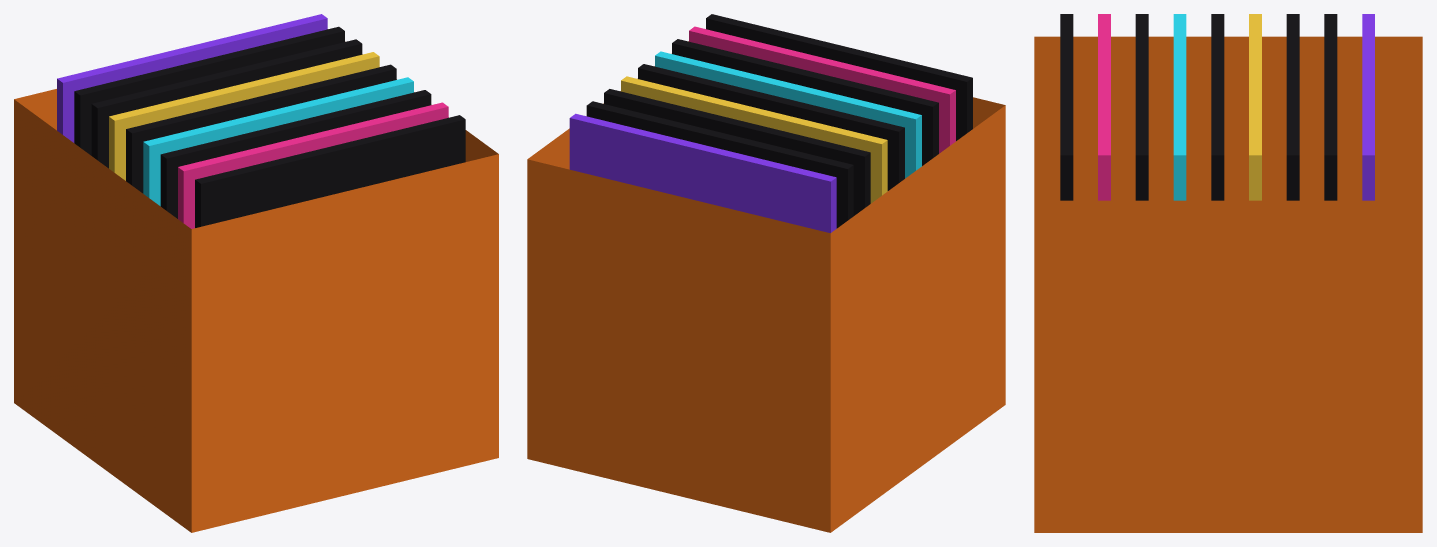
Rendered from RecordCrate.obj.
3 renders of one model, left to right at view 1: azimuth 30°, elevation 25°; view 2: azimuth 150°, elevation 25°; view 3: azimuth 270°, elevation 25°, orthographic. The views are drawn at different scales.
Parts seen in each view (by area): view 1: RecordCrate; view 2: RecordCrate; view 3: RecordCrate.
Boxes of the visible parts, x1,y1,x2,y2 form: RecordCrate: [14, 14, 498, 532]; RecordCrate: [527, 14, 1005, 532]; RecordCrate: [1034, 14, 1422, 532].
Size of the model in its own units: 0.36 by 0.375 by 0.36.
Materials: 6 (6 with a texture image).
